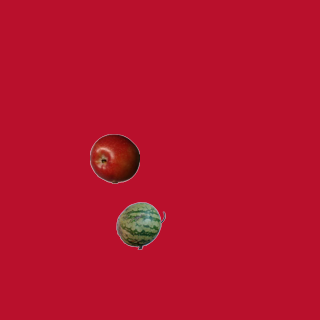Apple Braeburn: (89, 133, 139, 183)
Watermelon: (115, 200, 165, 250)
